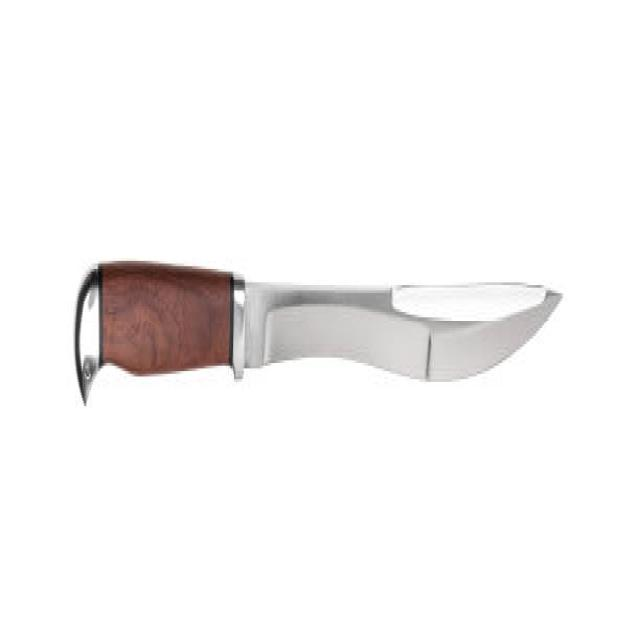knife: (75, 257, 568, 414)
